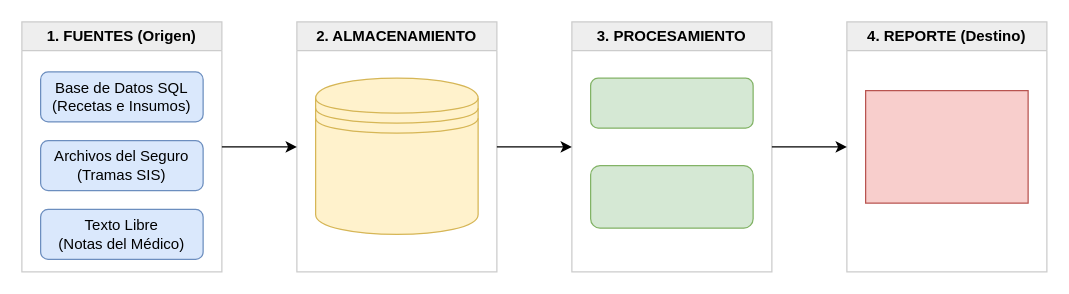
Some shapes in this 1069 by 294 pixel diagram are drawn without their labels. Here are the shapes that lost their labels. From the top down, the centre of each, then its label:
[671,102]: Limpieza y Filtro de Datos
[396,155]: DATA LAKE (Copia de seguridad en bruto, sin afectar al hospital)
[946,146]: Panel Interactiva (Dashboards de Alertas de Falta de Stock)
[671,196]: Algoritmo Predictivo (Cálculo de demanda)
